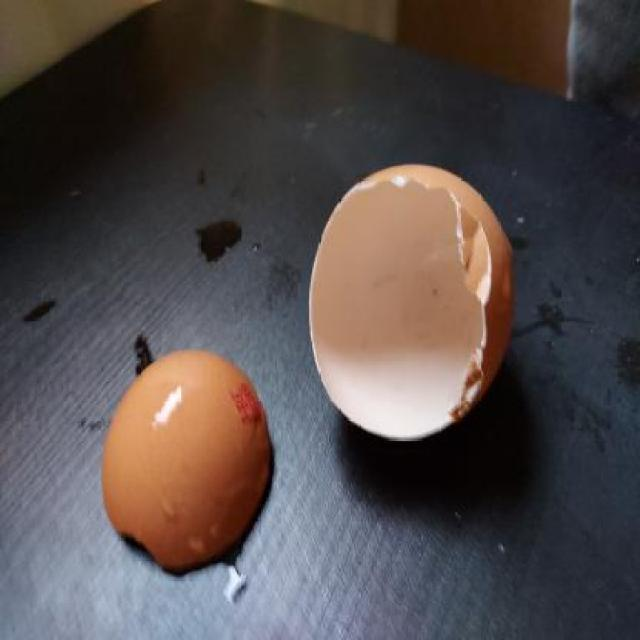biodegradable: (308, 167, 530, 444), (98, 342, 277, 570)
